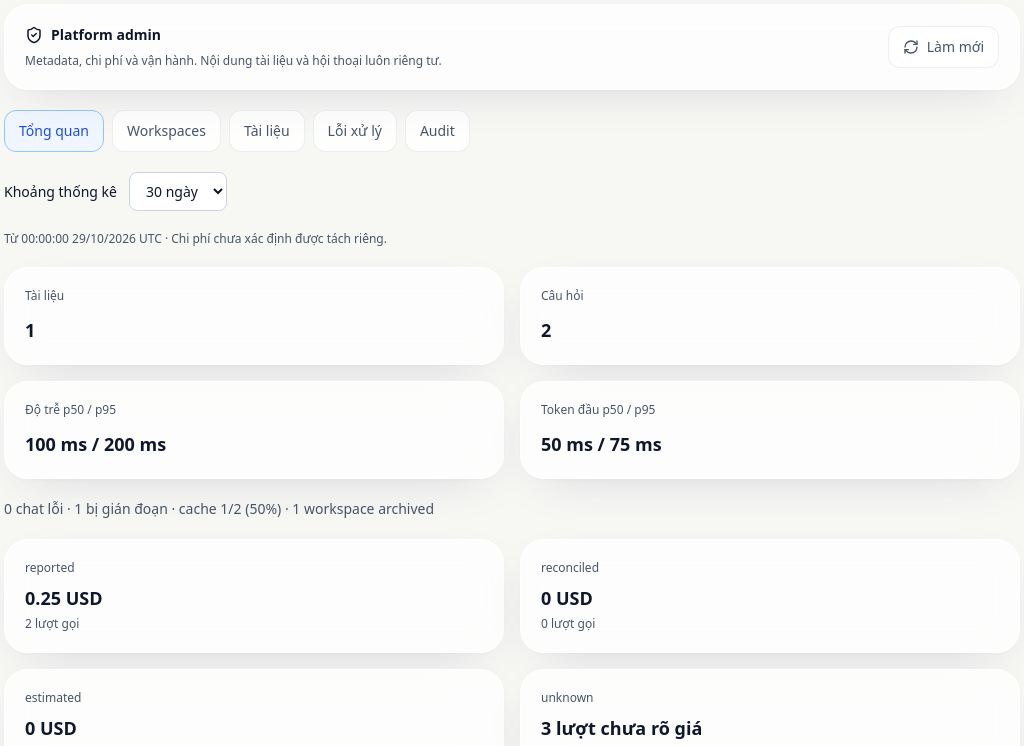
Test case: requires the exact workspace ID for purge and never retries an uncertain mutation automatically
This screenshot has width=1024, height=746.
Step 1. Click the button "Workspaces" → (166, 131), box [112, 110, 221, 152]
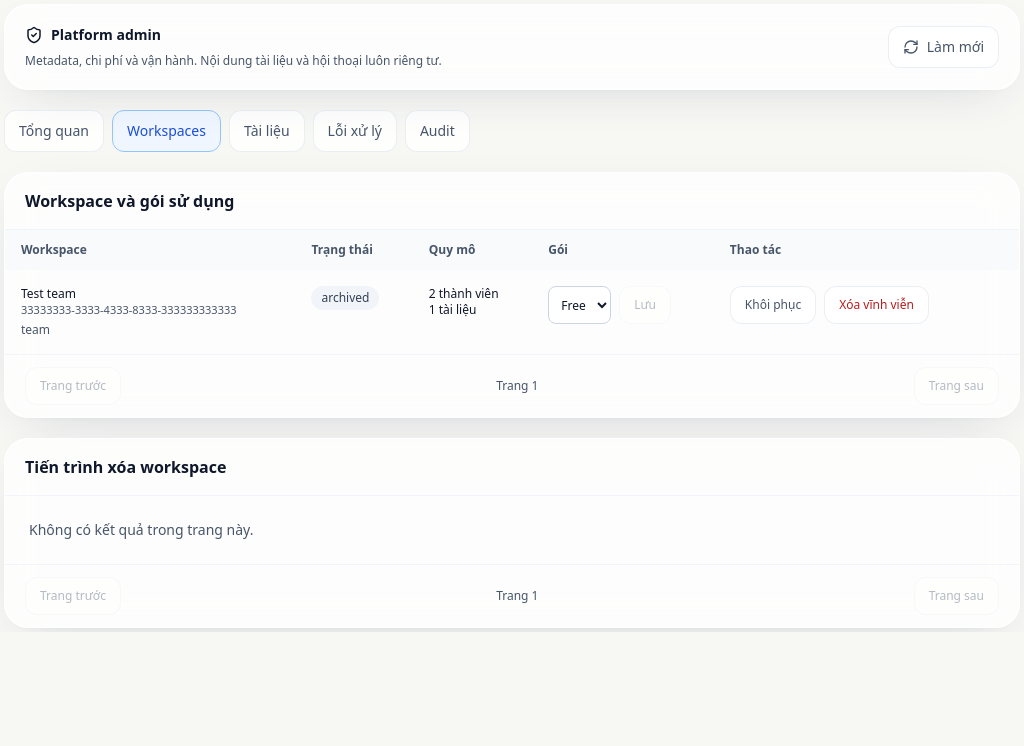
Step 2. Click the button "Xóa vĩnh viễn" → (877, 305), box [824, 286, 929, 324]
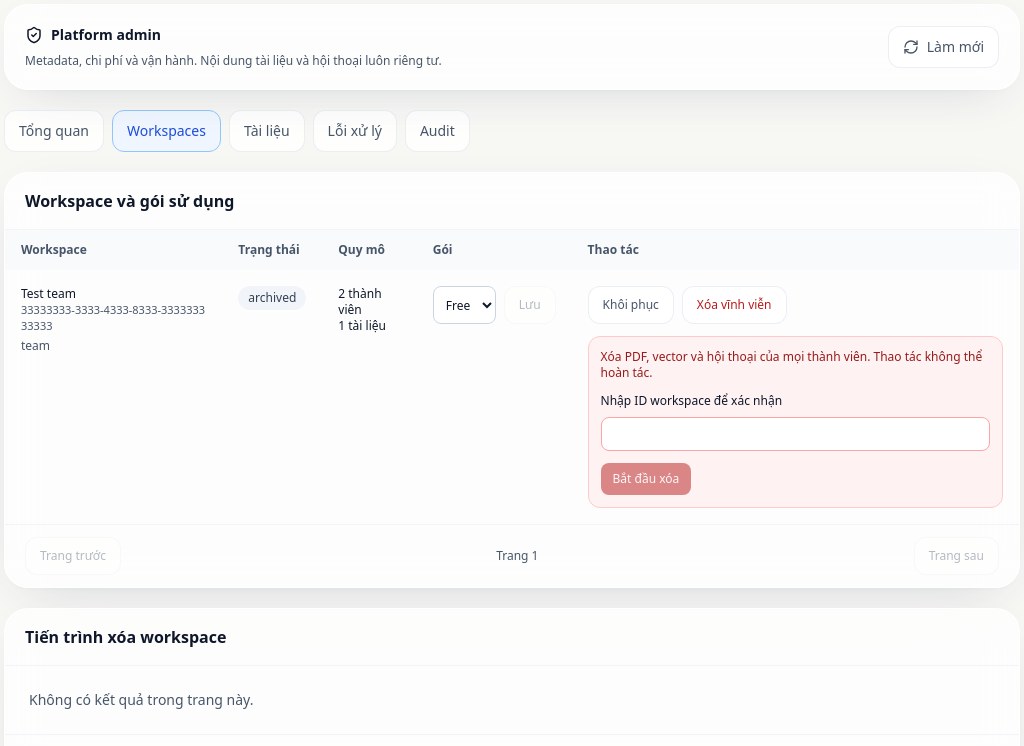
Now the button "Bắt đầu xóa" is disabled, box [600, 463, 691, 495]
Step 3. Type "wrong-id" into the field labelled "Nhập ID workspace để xác nhận" → (795, 434), box [600, 417, 990, 451]
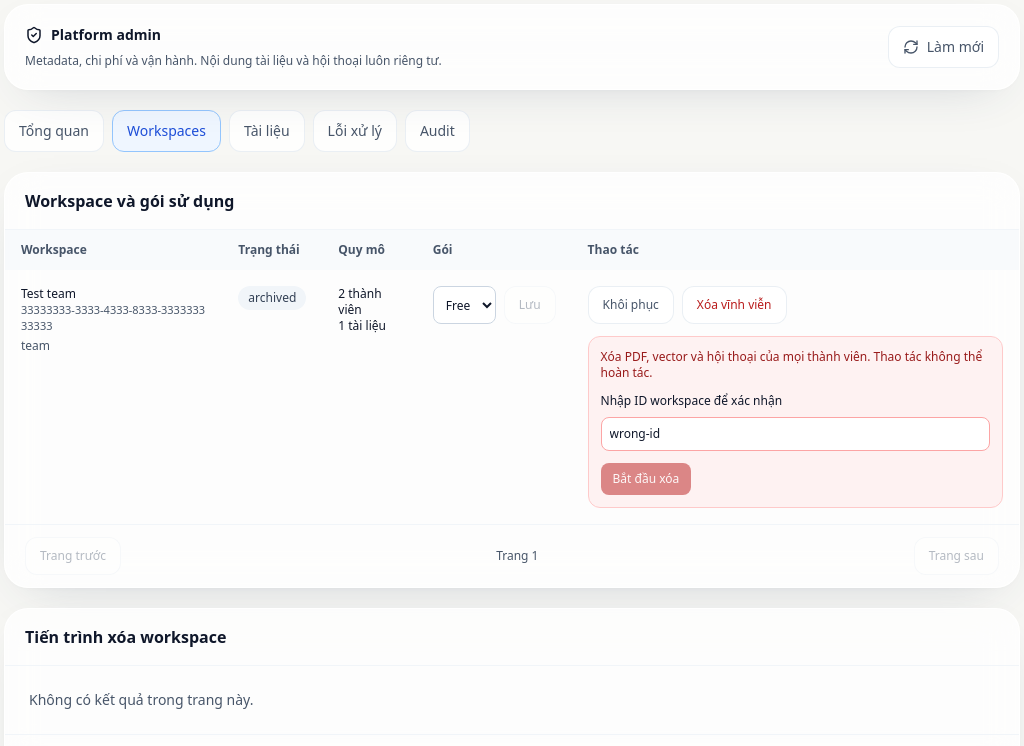
Now the button "Bắt đầu xóa" is disabled, box [600, 463, 691, 495]
Step 4. Replace the text in the field labelled "Nhập ID workspace để xác nhận" with "33333333-3333-4333-8333-333333333333" → (795, 434), box [600, 417, 990, 451]
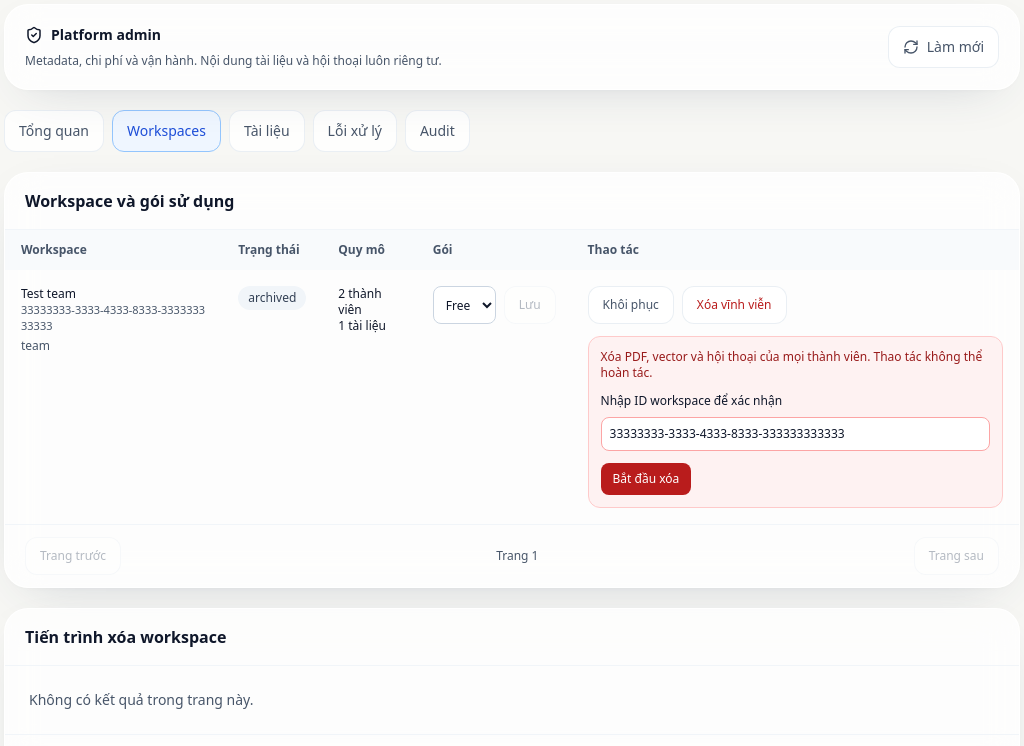
Now the button "Bắt đầu xóa" is enabled
Step 5. Click the button "Bắt đầu xóa" → (646, 479), box [600, 463, 691, 495]
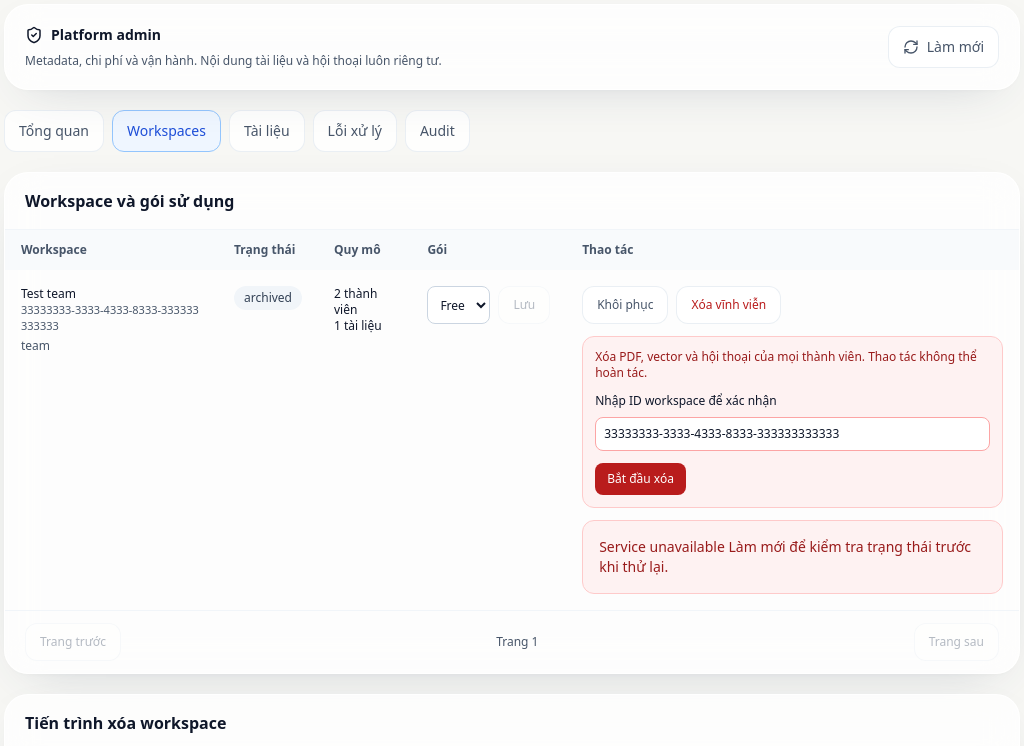
Now the text "Test team" is shown, box [21, 285, 76, 302]
Now the message shows "Làm mới để kiểm tra trạng thái", box [599, 537, 971, 576]
